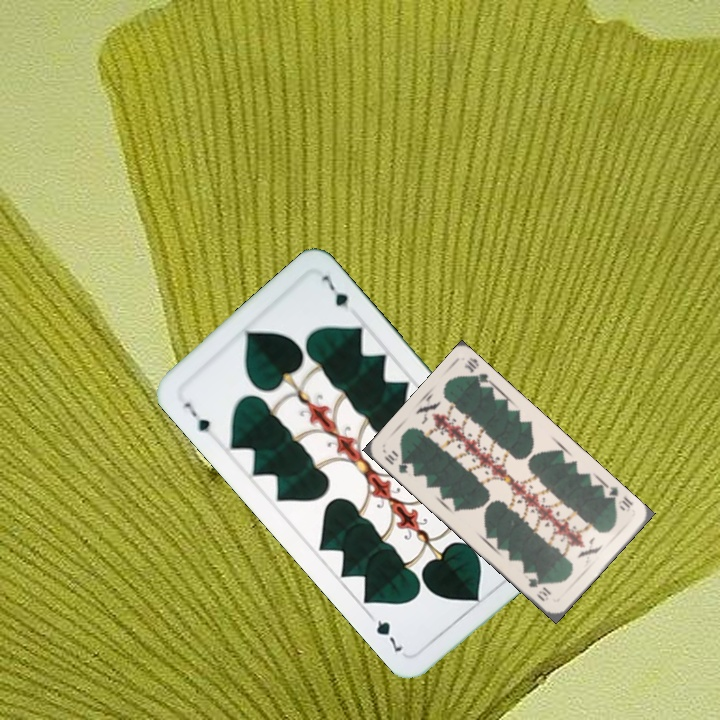G10: (599, 482, 636, 514), (379, 446, 411, 476)
G7: (180, 398, 213, 435)
